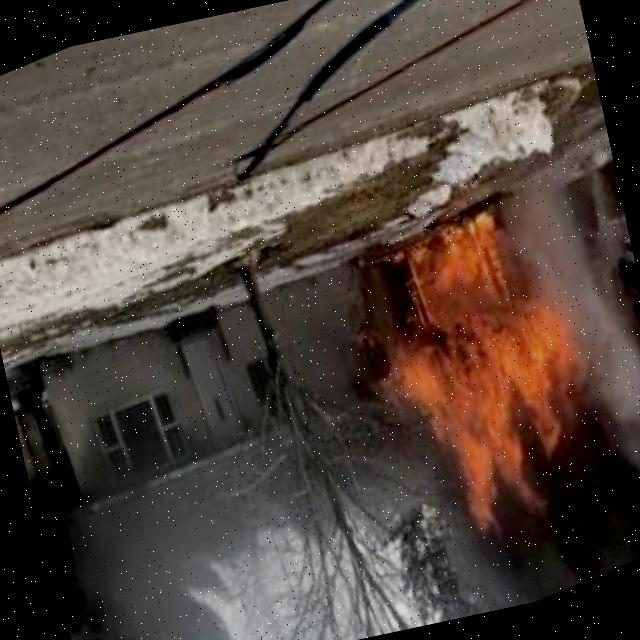fire: (360, 274, 612, 525), (392, 199, 516, 312)
